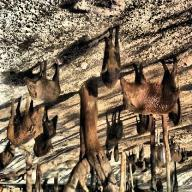boar: (118, 49, 192, 124), (12, 56, 68, 102), (96, 22, 131, 91), (5, 101, 50, 146), (26, 131, 64, 157), (97, 116, 129, 142), (41, 114, 68, 138), (0, 146, 21, 168)
